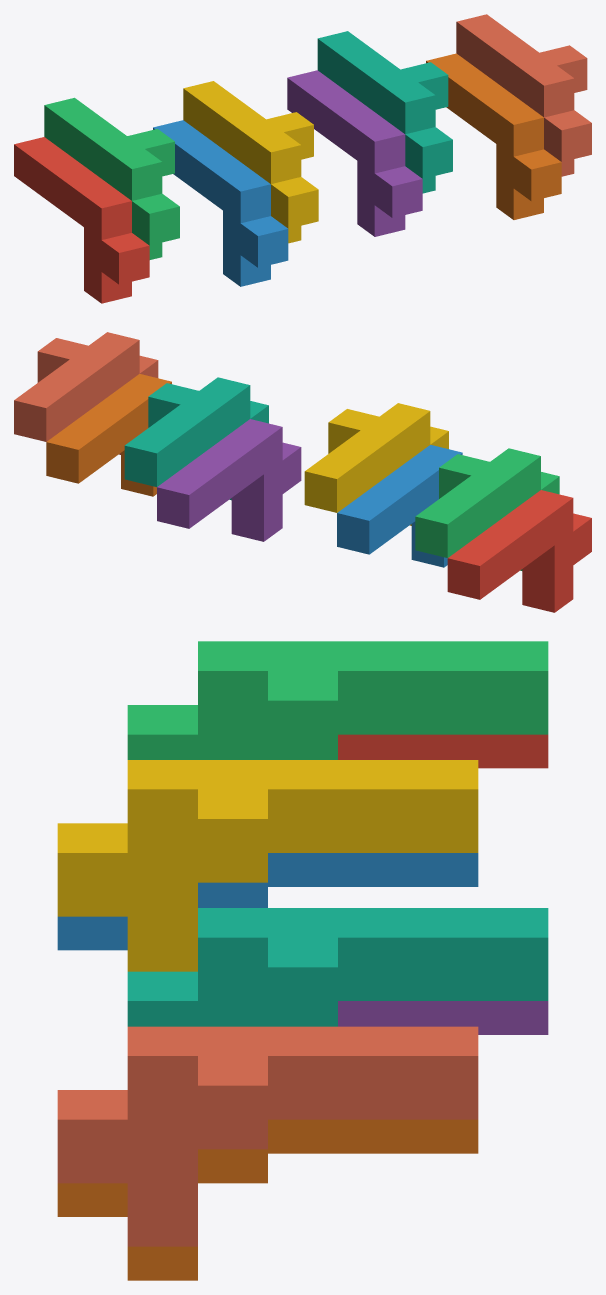
File: tiling.obj
The picture shows the model from 3 angles, top to bottom: view 1: azimuth 30°, elevation 25°; view 2: azimuth 150°, elevation 25°; view 3: azimuth 270°, elevation 25°; orthographic projection. The views are drawn at different scales.
Visible parts, largest first — view 1: copy_1_domain_1, copy_1_domain_5, copy_1_domain_8, copy_1_domain_7, copy_1_domain_4, copy_1_domain_3, copy_1_domain_6, copy_1_domain_2; view 2: copy_1_domain_1, copy_1_domain_5, copy_1_domain_4, copy_1_domain_7, copy_1_domain_8, copy_1_domain_3, copy_1_domain_2, copy_1_domain_6; view 3: copy_1_domain_8, copy_1_domain_4, copy_1_domain_3, copy_1_domain_7, copy_1_domain_6, copy_1_domain_2, copy_1_domain_1, copy_1_domain_5.
Part boxes in pixels (bbox=[...]): copy_1_domain_1: bbox=[14, 137, 149, 303]; copy_1_domain_5: bbox=[287, 70, 422, 236]; copy_1_domain_8: bbox=[456, 14, 591, 176]; copy_1_domain_7: bbox=[317, 31, 452, 193]; copy_1_domain_4: bbox=[183, 81, 318, 243]; copy_1_domain_3: bbox=[44, 97, 179, 259]; copy_1_domain_6: bbox=[426, 53, 561, 219]; copy_1_domain_2: bbox=[153, 120, 288, 286]; copy_1_domain_1: bbox=[447, 490, 591, 612]; copy_1_domain_5: bbox=[157, 419, 301, 541]; copy_1_domain_4: bbox=[304, 403, 448, 525]; copy_1_domain_7: bbox=[124, 377, 268, 500]; copy_1_domain_8: bbox=[14, 332, 158, 454]; copy_1_domain_3: bbox=[415, 448, 559, 570]; copy_1_domain_2: bbox=[337, 445, 462, 567]; copy_1_domain_6: bbox=[46, 374, 171, 496]; copy_1_domain_8: bbox=[57, 1026, 478, 1246]; copy_1_domain_4: bbox=[57, 760, 478, 971]; copy_1_domain_3: bbox=[127, 641, 548, 759]; copy_1_domain_7: bbox=[127, 908, 548, 1026]; copy_1_domain_6: bbox=[57, 1119, 478, 1280]; copy_1_domain_2: bbox=[57, 853, 478, 950]; copy_1_domain_1: bbox=[338, 734, 548, 768]; copy_1_domain_5: bbox=[338, 1001, 548, 1034].
Bounding box in the file's own units: 16 × 4 × 7.
